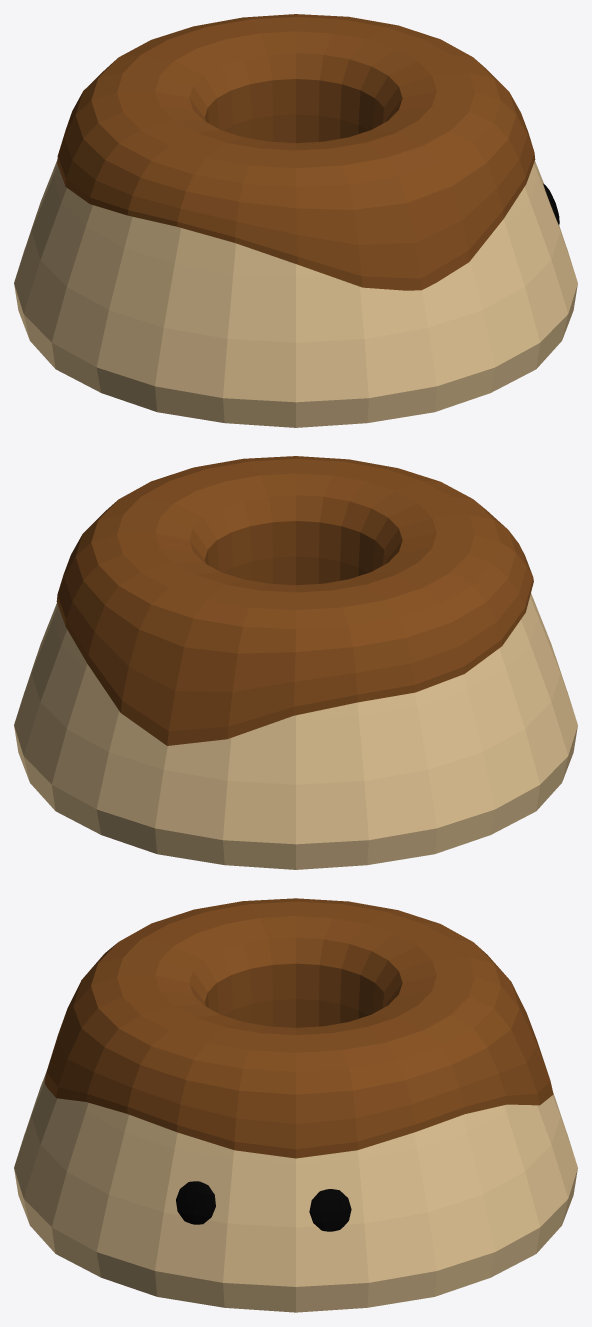
The model's file is Pudim (1).fbx.
3 views of the same model, one above another, from view 1: azimuth 30°, elevation 25°; view 2: azimuth 150°, elevation 25°; view 3: azimuth 270°, elevation 25° (orthographic).
Parts seen in each view (by area): view 1: Cauda, Bolinho; view 2: Cauda, Bolinho; view 3: Cauda, Bolinho, Olhos.
Part boxes in pixels (x1,y1,x2,y2): Cauda: (57, 14, 535, 290); Bolinho: (14, 160, 577, 427); Cauda: (56, 456, 533, 745); Bolinho: (14, 593, 577, 869); Cauda: (44, 898, 553, 1158); Bolinho: (14, 1073, 577, 1312); Olhos: (176, 1181, 351, 1231).
Bounding box in the file's own units: 179 × 81.23 × 179.
